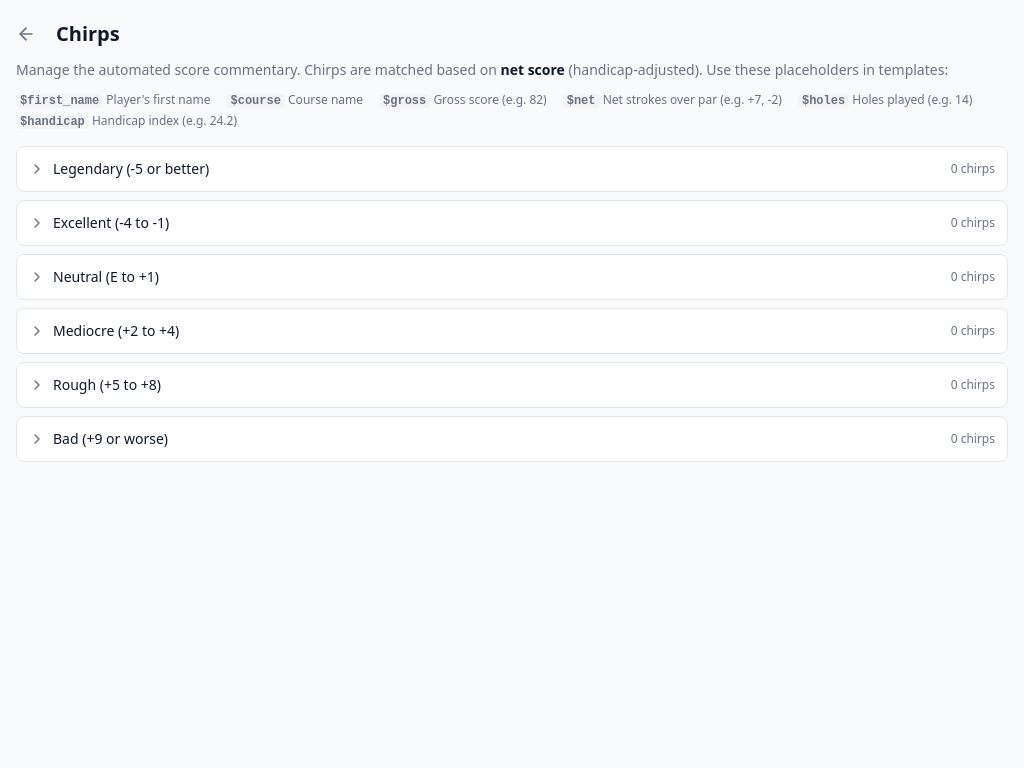
ChirpsPage — Flag OFF (legacy mode) › shows "Add Chirp" button inside expanded bucket
The width and height of the screenshot is (1024, 768).
Click the text "Legendary (-5 or better)" at (131, 169), box [53,159,209,179]
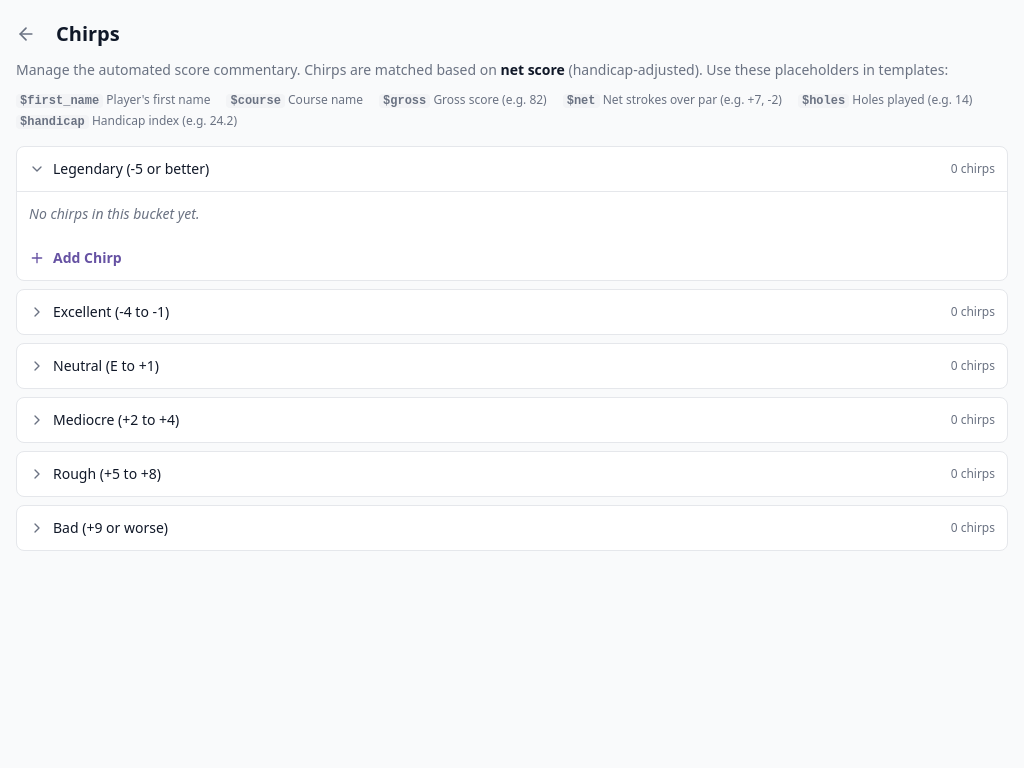
Expected: the button "Add Chirp" is shown, [17,236,1007,280]
